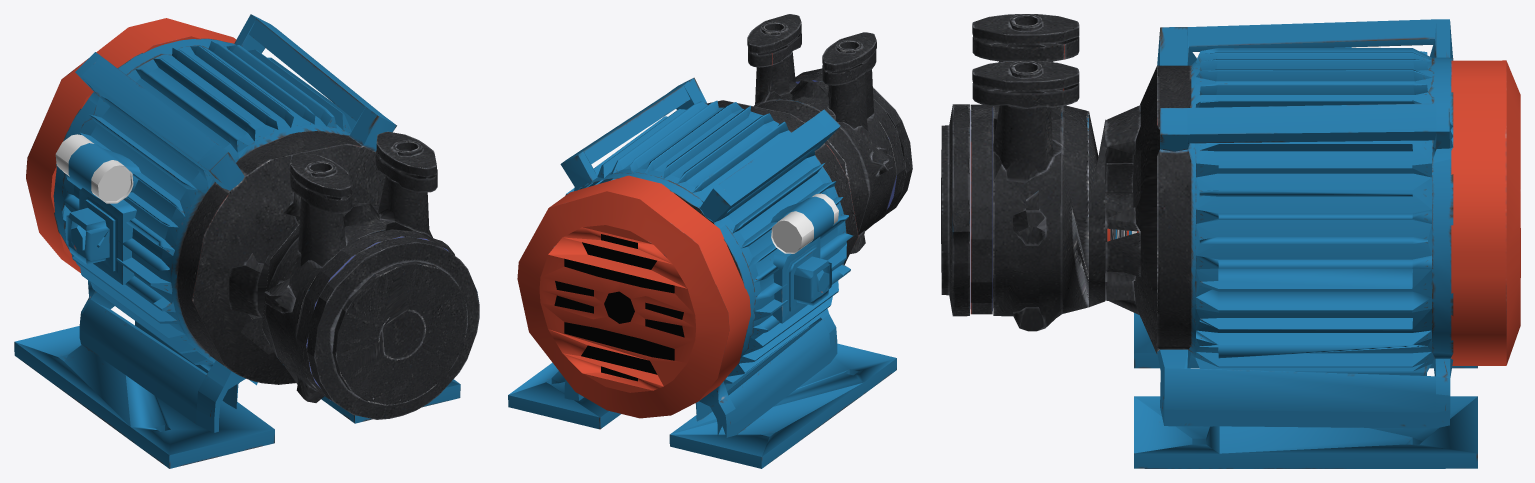
File: motor.fbx
The picture shows the model from 3 angles, left to right: view 1: azimuth 30°, elevation 25°; view 2: azimuth 150°, elevation 25°; view 3: azimuth 270°, elevation 25°; orthographic projection. The views are drawn at different scales.
Visible parts, largest first — view 1: motor; view 2: motor; view 3: motor.
Part boxes in pixels (x1=…): motor: x1=14, y1=14, x2=479, y2=468; motor: x1=508, y1=14, x2=912, y2=468; motor: x1=941, y1=14, x2=1520, y2=468.
Bounding box in the file's own units: 43.21 × 43.55 × 66.09.
Materials: 1 (1 with a texture image).
